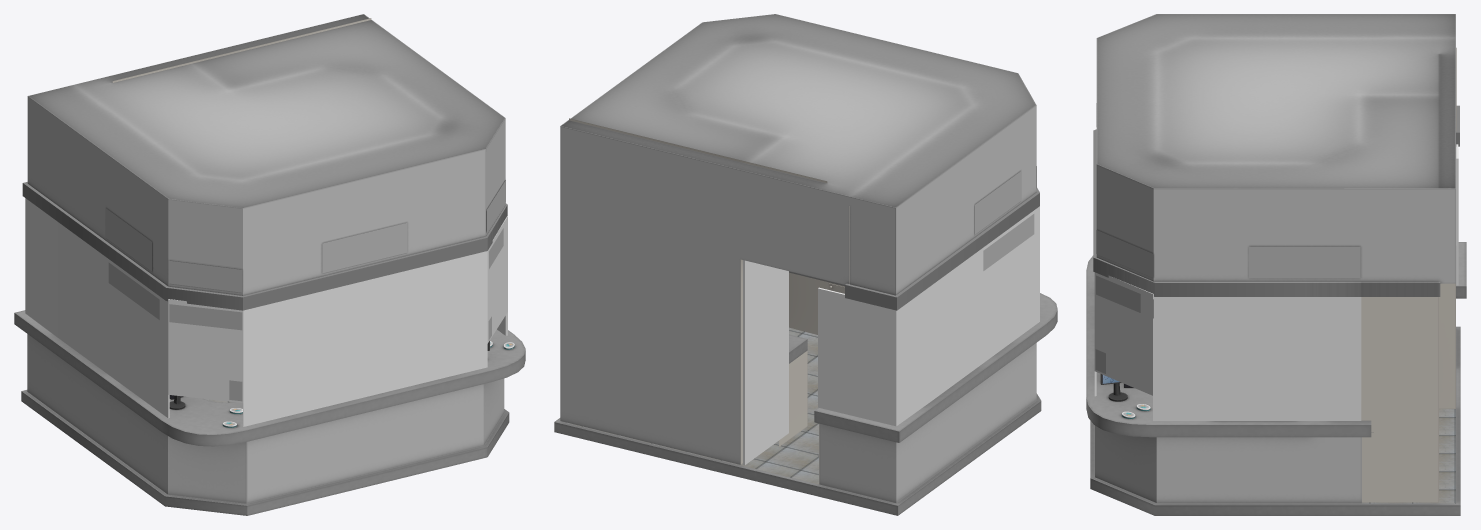
The model's file is psc.fbx.
3 views of the same model, side by side, from view 1: azimuth 30°, elevation 25°; view 2: azimuth 150°, elevation 25°; view 3: azimuth 270°, elevation 25° (orthographic). The views are drawn at different scales.
Visible parts, largest first — view 1: PSC_ceiling_geo, PSC_glass_geo, PSC_exterior02_geo, psc_signs01_geo001, PSC_cabinet_wall_geo; view 2: PSC_ceiling_geo, PSC_glass_geo, PSC_exterior02_geo, PSC_glass door_geo, PSC_floor_geo, PSC_Object105_geo, psc_signs01_geo001, PSC_cabinet_wall_geo; view 3: PSC_ceiling_geo, PSC_glass_geo, PSC_exterior02_geo, PSC_cabinet_wall_geo, psc_signs01_geo001, PSC_floor_geo.
Part boxes in pixels (box(x1,y1,x2,y2)): PSC_ceiling_geo: box(27, 14, 505, 503); PSC_glass_geo: box(25, 198, 507, 426); PSC_exterior02_geo: box(14, 182, 525, 515); psc_signs01_geo001: box(105, 180, 505, 401); PSC_cabinet_wall_geo: box(112, 18, 371, 82); PSC_ceiling_geo: box(560, 14, 1036, 502); PSC_glass_geo: box(818, 206, 1039, 426); PSC_exterior02_geo: box(554, 188, 1057, 515); PSC_glass door_geo: box(743, 260, 788, 465); PSC_floor_geo: box(571, 327, 818, 484); PSC_Object105_geo: box(779, 272, 828, 484); psc_signs01_geo001: box(974, 166, 1036, 270); PSC_cabinet_wall_geo: box(569, 118, 849, 464); PSC_ceiling_geo: box(1095, 14, 1455, 503); PSC_glass_geo: box(1094, 144, 1458, 420); PSC_exterior02_geo: box(1086, 105, 1466, 515); PSC_cabinet_wall_geo: box(1361, 47, 1456, 502); psc_signs01_geo001: box(1095, 103, 1360, 373); PSC_floor_geo: box(1362, 409, 1455, 503).
Bounding box in the file's own units: 360 × 301 × 316.
